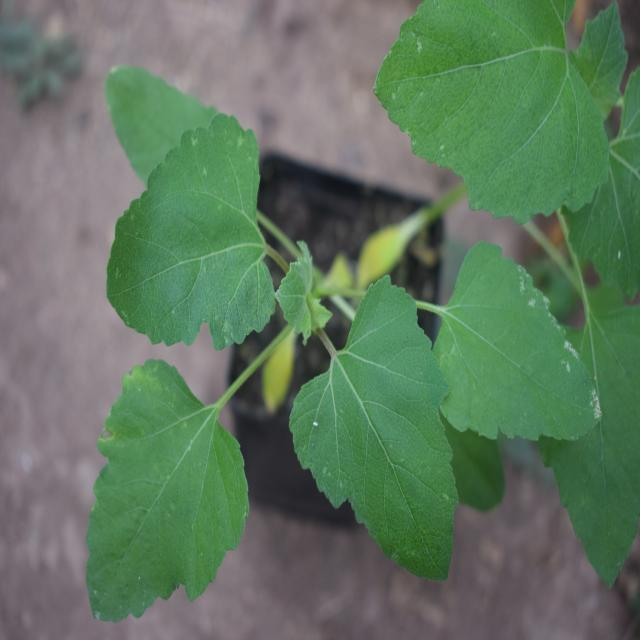cocklebur: (46, 100, 556, 594)
